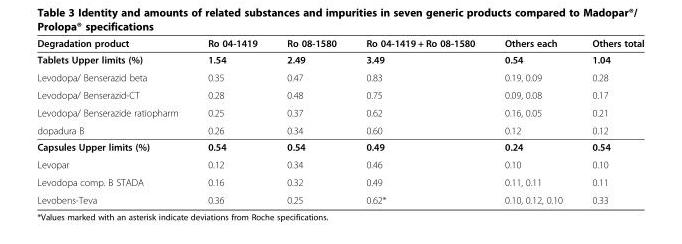table: (36, 37, 643, 205)
table column: (36, 37, 192, 205), (350, 37, 489, 205), (489, 37, 576, 205), (192, 37, 271, 205), (271, 37, 350, 205), (576, 37, 643, 205)
table column header: (36, 37, 643, 51)
table row: (36, 85, 643, 103), (36, 103, 643, 121), (36, 155, 643, 173), (36, 51, 643, 68), (36, 68, 643, 85), (36, 121, 643, 138), (36, 138, 643, 155), (36, 173, 643, 190), (36, 190, 643, 205), (36, 37, 643, 51)
